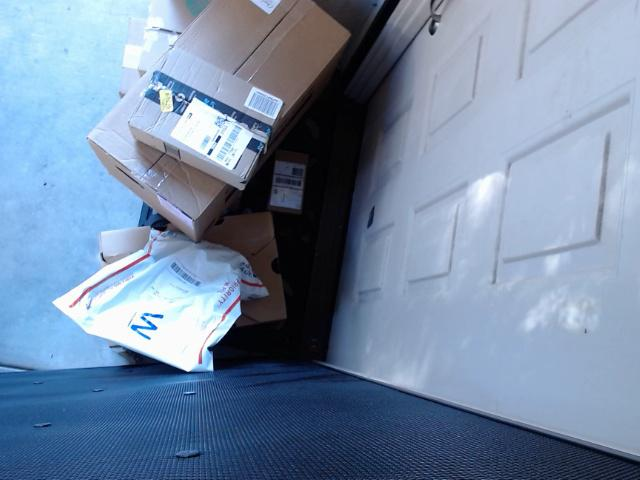box: (65, 2, 354, 218), (91, 212, 304, 330), (128, 44, 288, 184), (109, 5, 202, 92), (257, 143, 320, 215)
plastic_bag: (57, 233, 252, 370)
